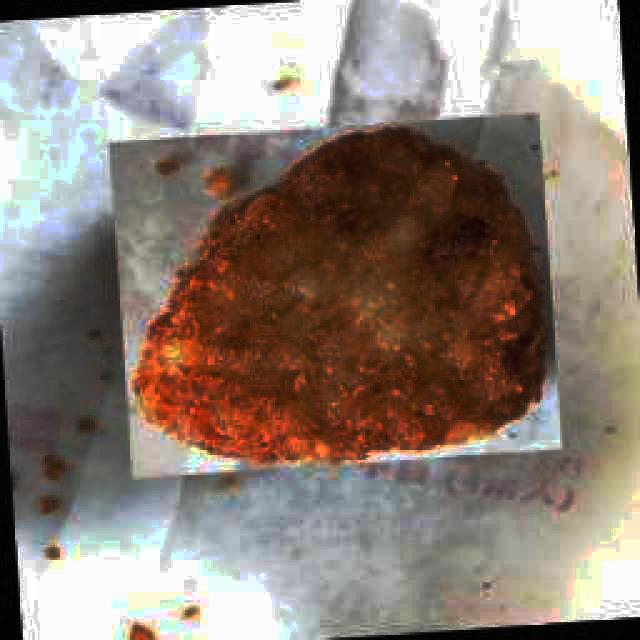Hashbrown: (136, 130, 544, 461)
